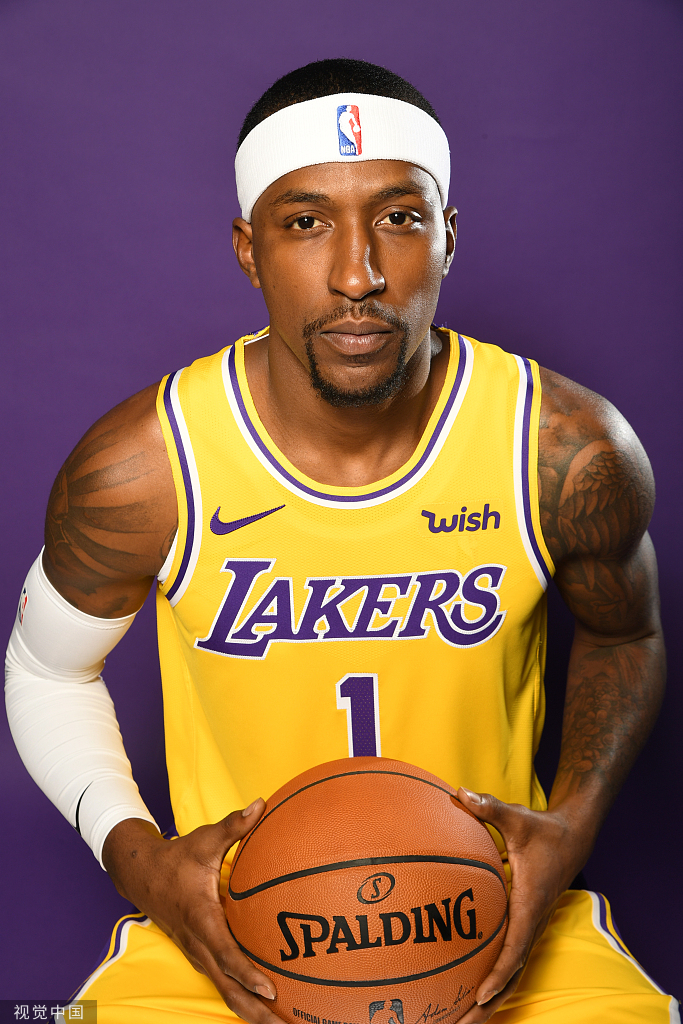ball: (224, 756, 511, 1024)
